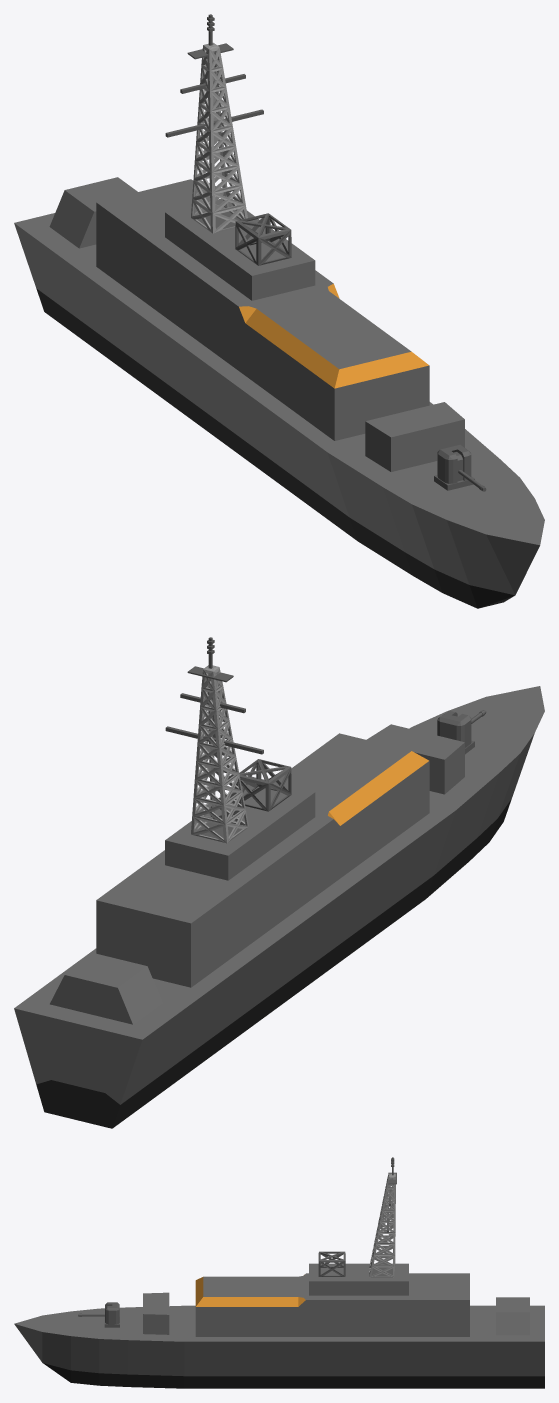
Rendered from Ship.gltf.
3 renders of one model, top to bottom at view 1: azimuth 30°, elevation 25°; view 2: azimuth 150°, elevation 25°; view 3: azimuth 270°, elevation 25°, orthographic. The views are drawn at different scales.
Parts seen in each view (by area): view 1: 立方体; view 2: 立方体; view 3: 立方体.
Boxes of the visible parts, x1,y1,x2,y2 form: 立方体: (14, 14, 544, 608); 立方体: (14, 637, 544, 1128); 立方体: (14, 1157, 544, 1388).
Bounding box in the file's own units: 20 × 57.31 × 124.
1 material, 1 textured.
